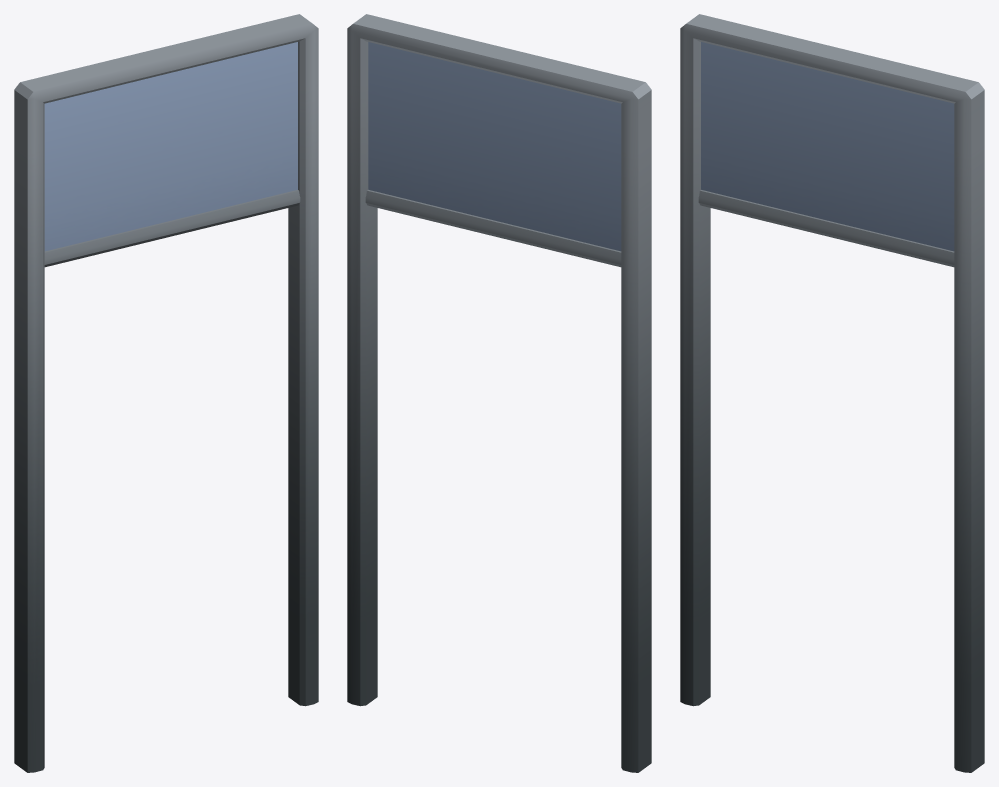
The model's file is Wall_Door_01.fbx.
3 renders of one model, left to right at view 1: azimuth 30°, elevation 25°; view 2: azimuth 150°, elevation 25°; view 3: azimuth 330°, elevation 25°, orthographic.
Parts seen in each view (by area): view 1: Box010; view 2: Box010; view 3: Box010.
Part boxes in pixels (x1,y1,x2,y2): Box010: (14,14,318,772); Box010: (347,14,651,772); Box010: (680,14,984,772).
Size of the model in its own units: 140 by 313 by 13.21.
